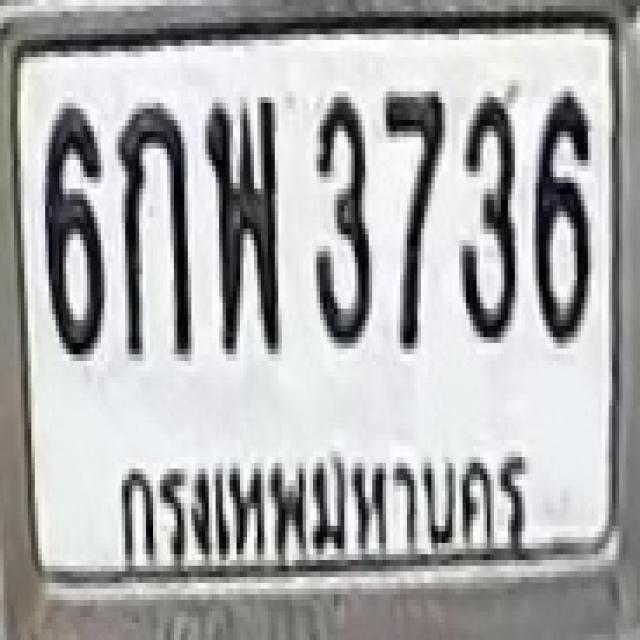3: (312, 91, 371, 343), (458, 92, 516, 337)
6: (42, 103, 104, 360), (532, 89, 588, 340)
7: (383, 85, 445, 348)
A01: (116, 103, 190, 360)
A30: (203, 95, 280, 352)
BKK: (105, 423, 546, 580)
